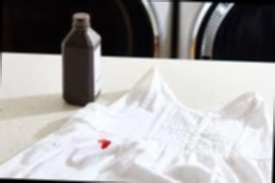blood: (96, 137, 112, 150)
